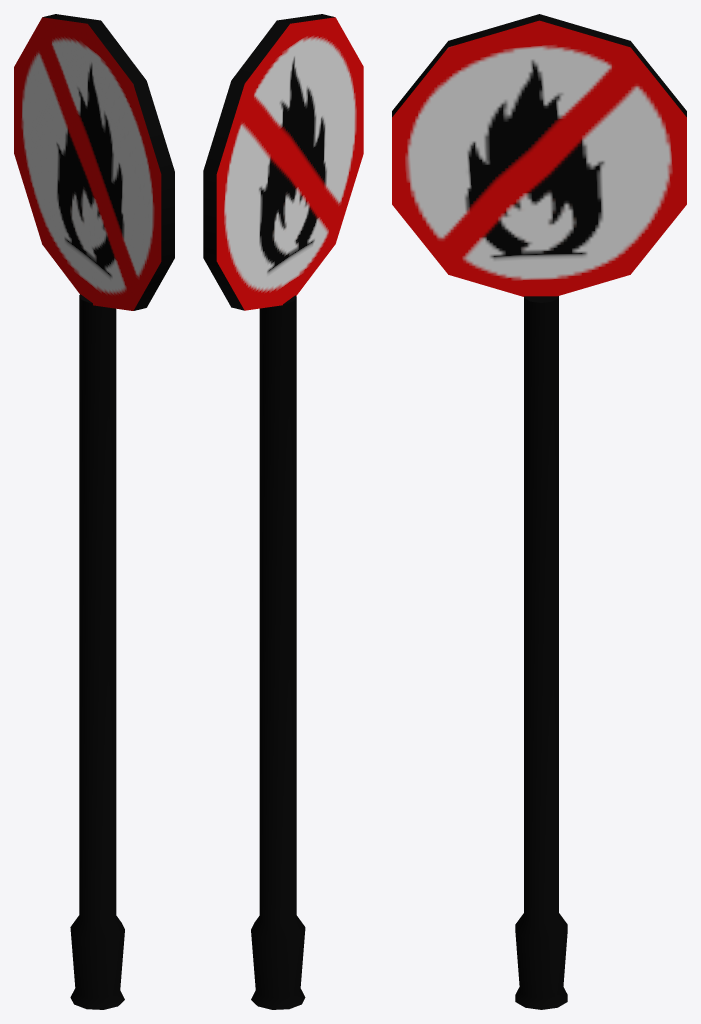
3 renders of one model, left to right at view 1: azimuth 30°, elevation 25°; view 2: azimuth 150°, elevation 25°; view 3: azimuth 270°, elevation 25°, orthographic.
Parts seen in each view (by area): view 1: Cylinder002; view 2: Cylinder002; view 3: Cylinder002.
Part boxes in pixels (<box>): Cylinder002: <box>14,14,174,1009</box>; Cylinder002: <box>203,14,363,1009</box>; Cylinder002: <box>392,14,686,1009</box>.
Bounding box in the file's own units: 1.42 × 27.86 × 7.61.
